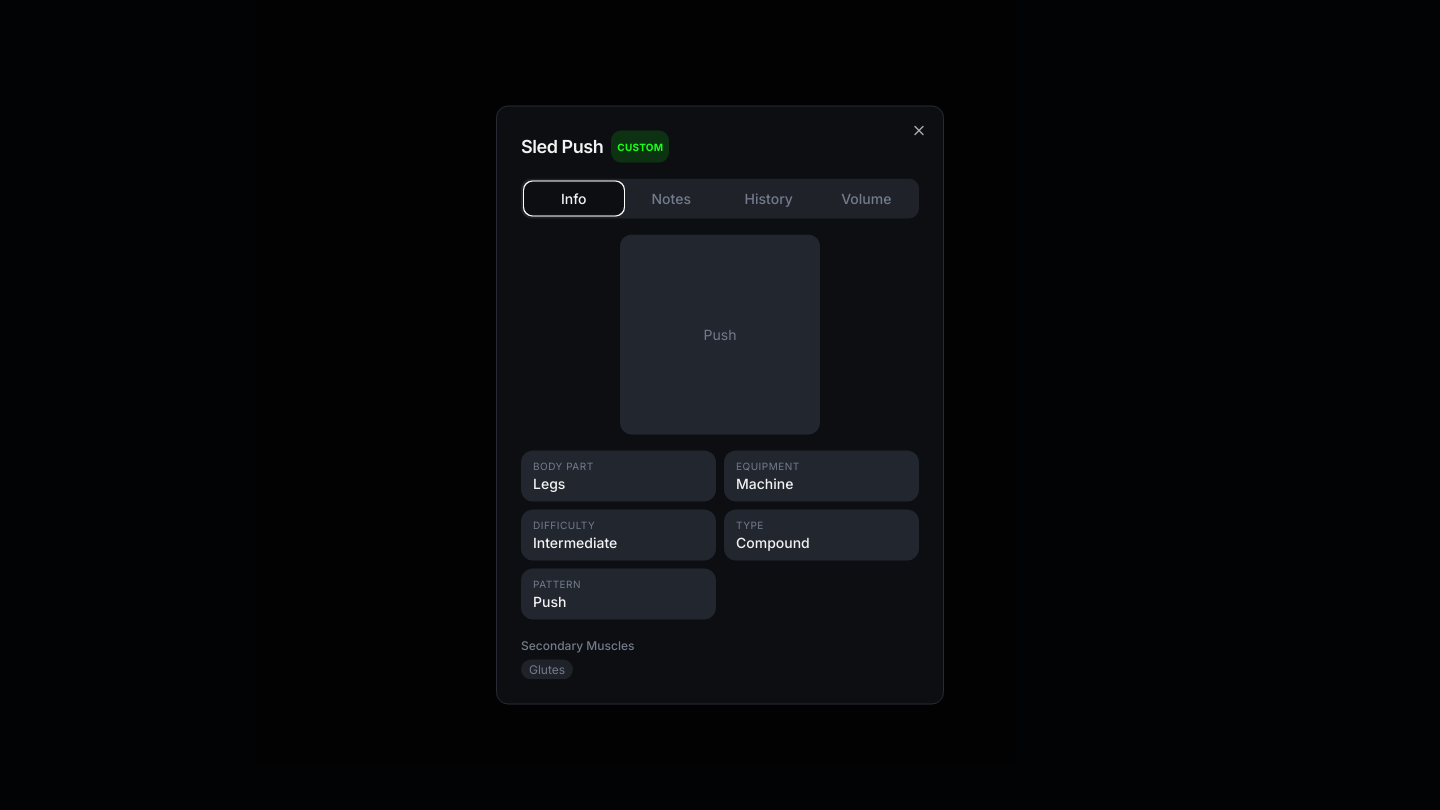
Scenario: ExerciseDetailModal — Notes tab › keeps Save disabled until the note actually changes
Press the mouse on the tab "Notes": (671, 198) x1=622 y1=182 x2=720 y2=214
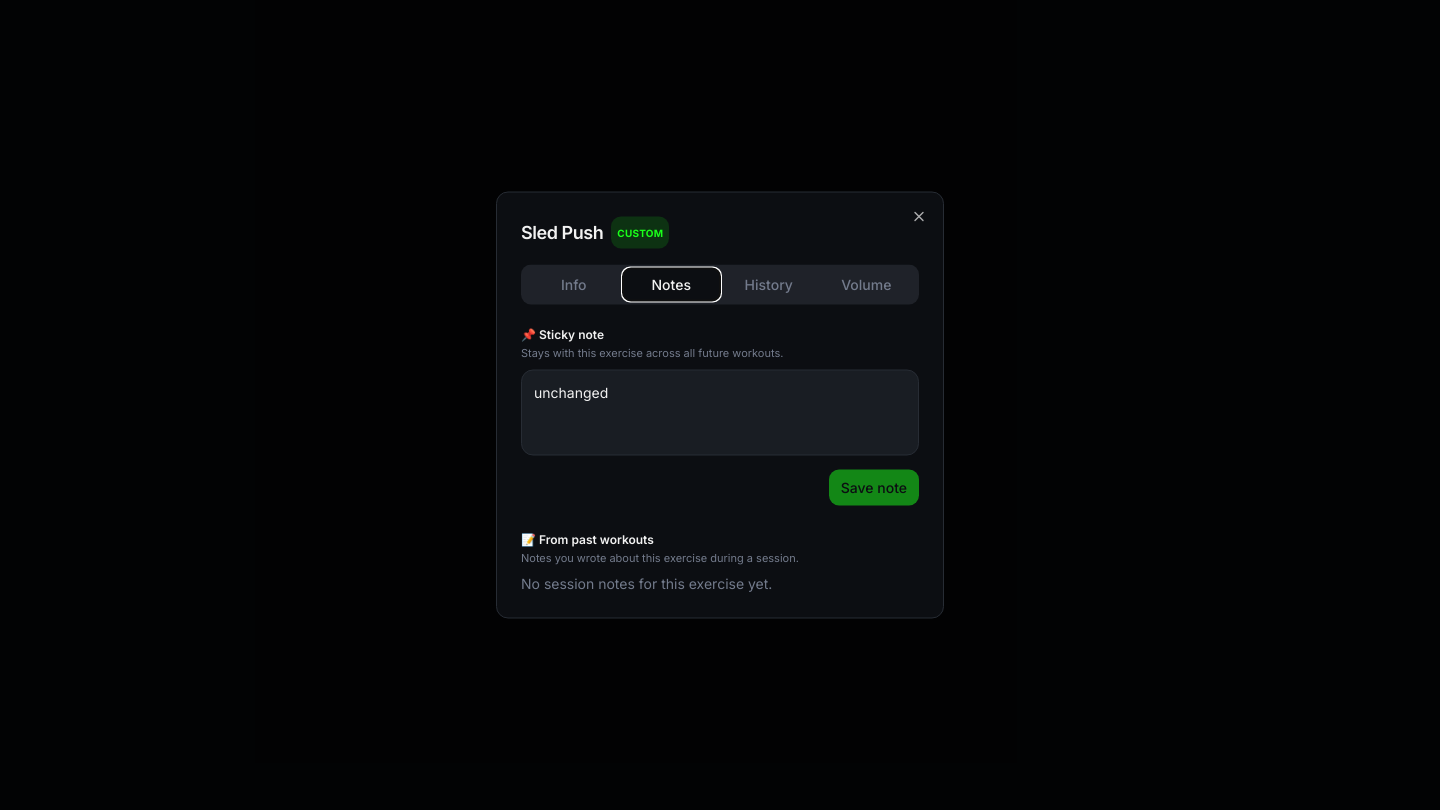
expect the button "Save note" is disabled: met, box x1=829 y1=469 x2=919 y2=505
Replace the text in the text box with "edited": (720, 412) x1=521 y1=369 x2=919 y2=455
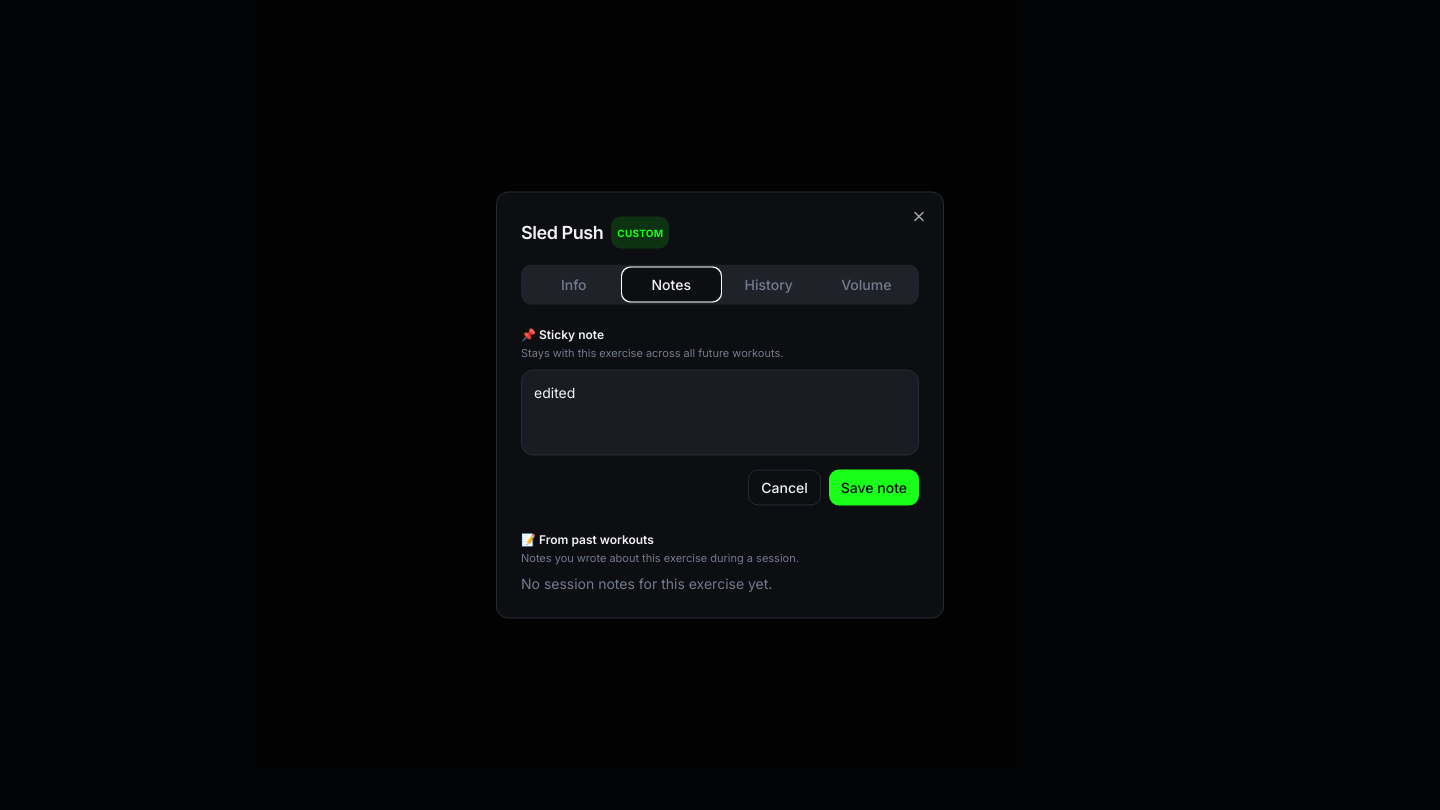
expect the button "Save note" is enabled: met, box x1=829 y1=469 x2=919 y2=505
